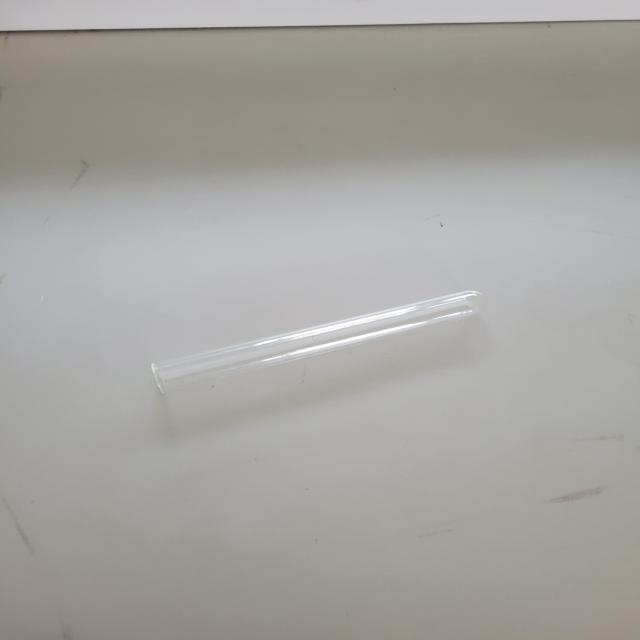Test_Tube: (114, 257, 510, 441)
